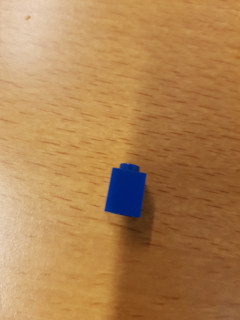1x1 blue: (102, 160, 150, 222)
